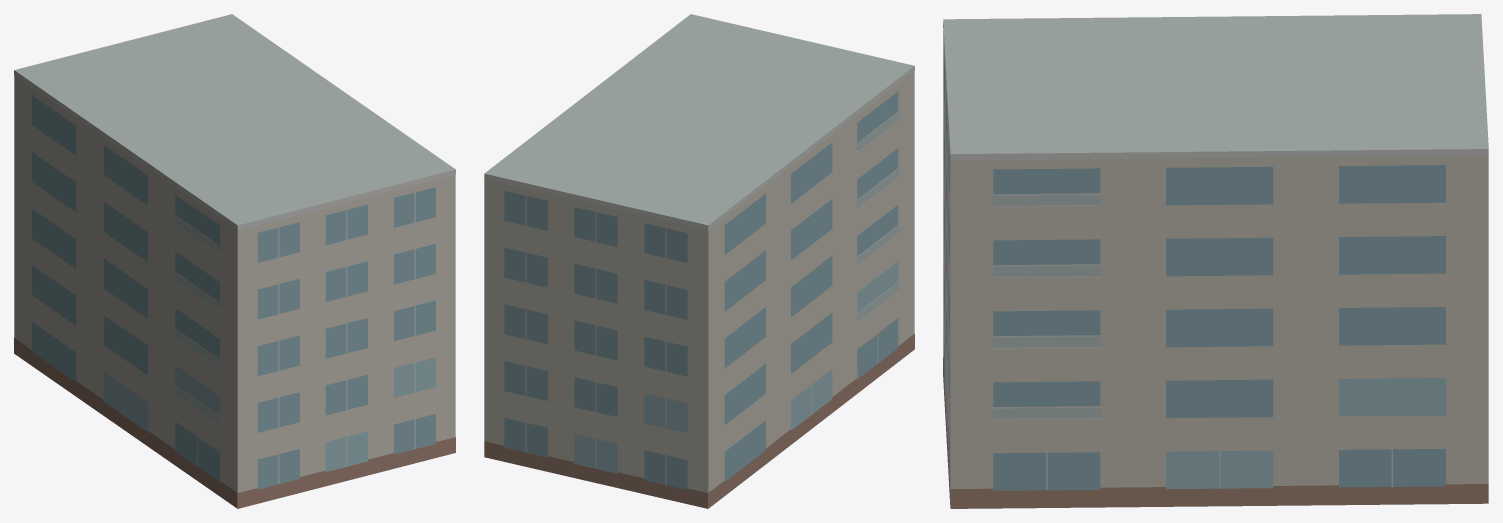
The model's file is survey-upis-32611684.glb.
The picture shows the model from 3 angles, left to right: view 1: azimuth 30°, elevation 25°; view 2: azimuth 150°, elevation 25°; view 3: azimuth 270°, elevation 25°; orthographic projection. The views are drawn at different scales.
Parts seen in each view (by area): view 1: survey-upis-32611684.tmp; view 2: survey-upis-32611684.tmp; view 3: survey-upis-32611684.tmp.
Boxes of the visible parts, box(x1,y1,x2,y2) form: survey-upis-32611684.tmp: box(14, 14, 455, 508); survey-upis-32611684.tmp: box(484, 14, 914, 508); survey-upis-32611684.tmp: box(943, 14, 1488, 508).
Size of the model in its own units: 11.62 by 13.7 by 19.11.
